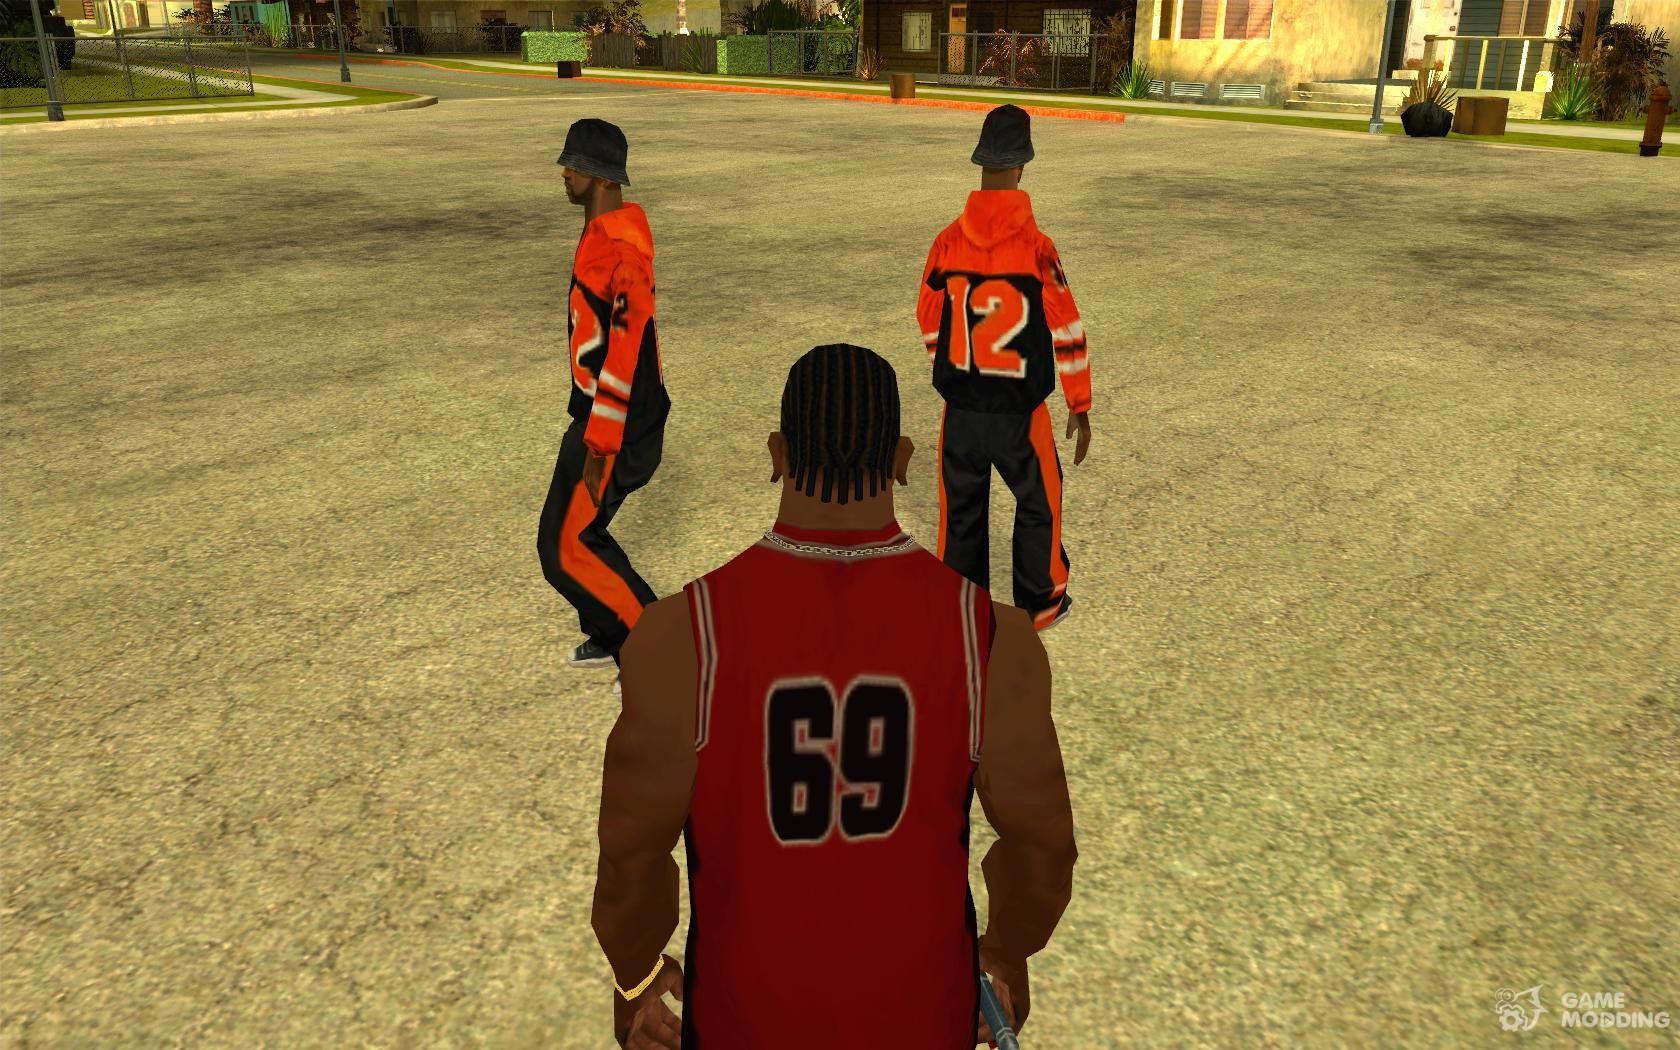person: (631, 365, 1059, 1050), (923, 111, 1096, 637), (531, 126, 687, 679)
